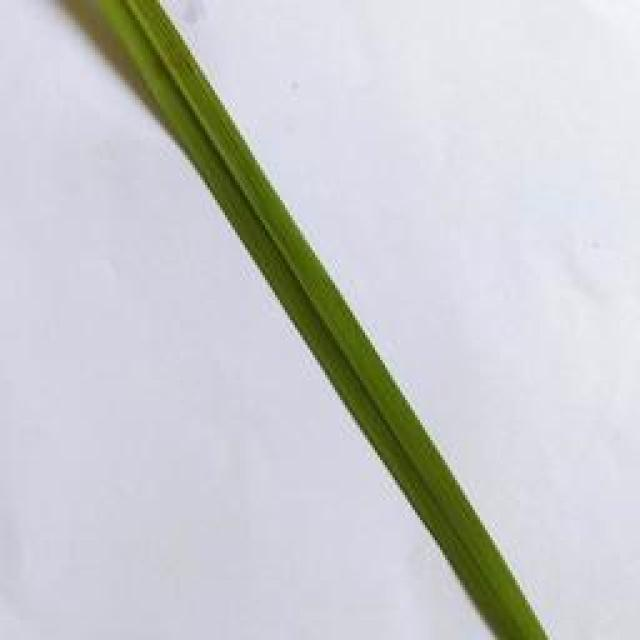Healthy-Plant: (85, 0, 561, 640)
